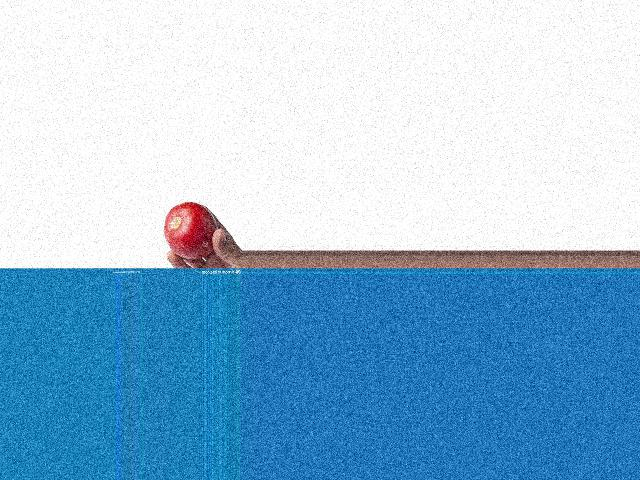tomato: (163, 202, 217, 259)
